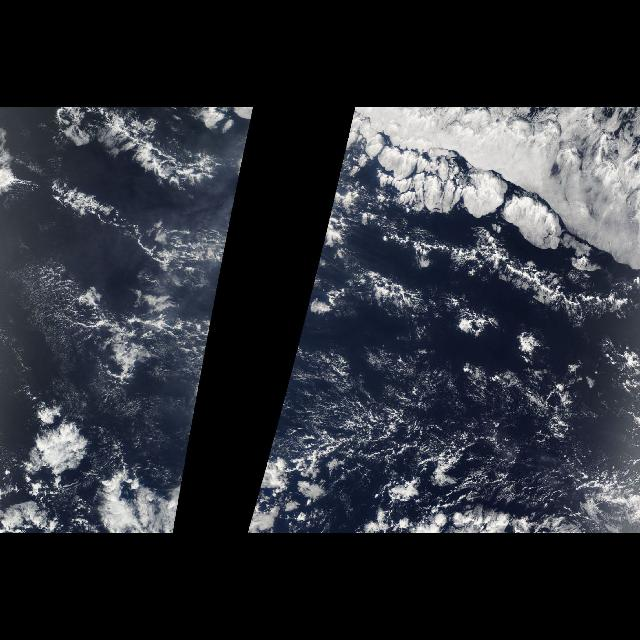Flower: (312, 107, 638, 287), (11, 400, 197, 532), (246, 400, 338, 532)
Sugar: (259, 256, 639, 534), (6, 165, 242, 485)
